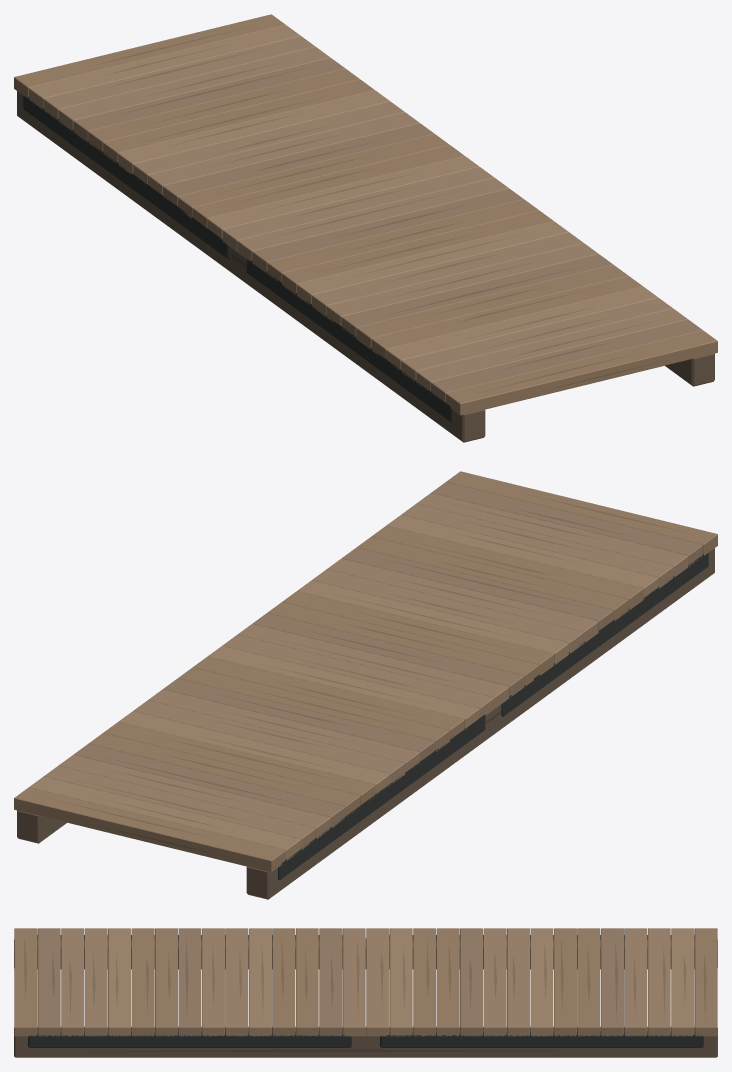
The model's file is finger_deck.glb.
3 renders of one model, top to bottom at view 1: azimuth 30°, elevation 25°; view 2: azimuth 150°, elevation 25°; view 3: azimuth 270°, elevation 25°, orthographic. The views are drawn at different scales.
Visible parts, largest first — view 1: finger_deck; view 2: finger_deck; view 3: finger_deck.
Part boxes in pixels (left/top/right/bottom): finger_deck: left=14, top=14, right=717, bottom=442; finger_deck: left=14, top=471, right=717, bottom=899; finger_deck: left=14, top=928, right=717, bottom=1057.
Size of the model in its own units: 2 by 0.3 by 6.
